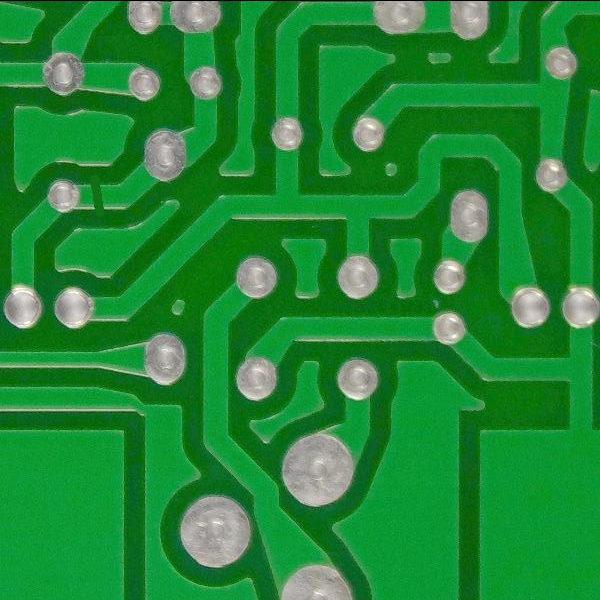open_circuit: (84, 175, 111, 215)
